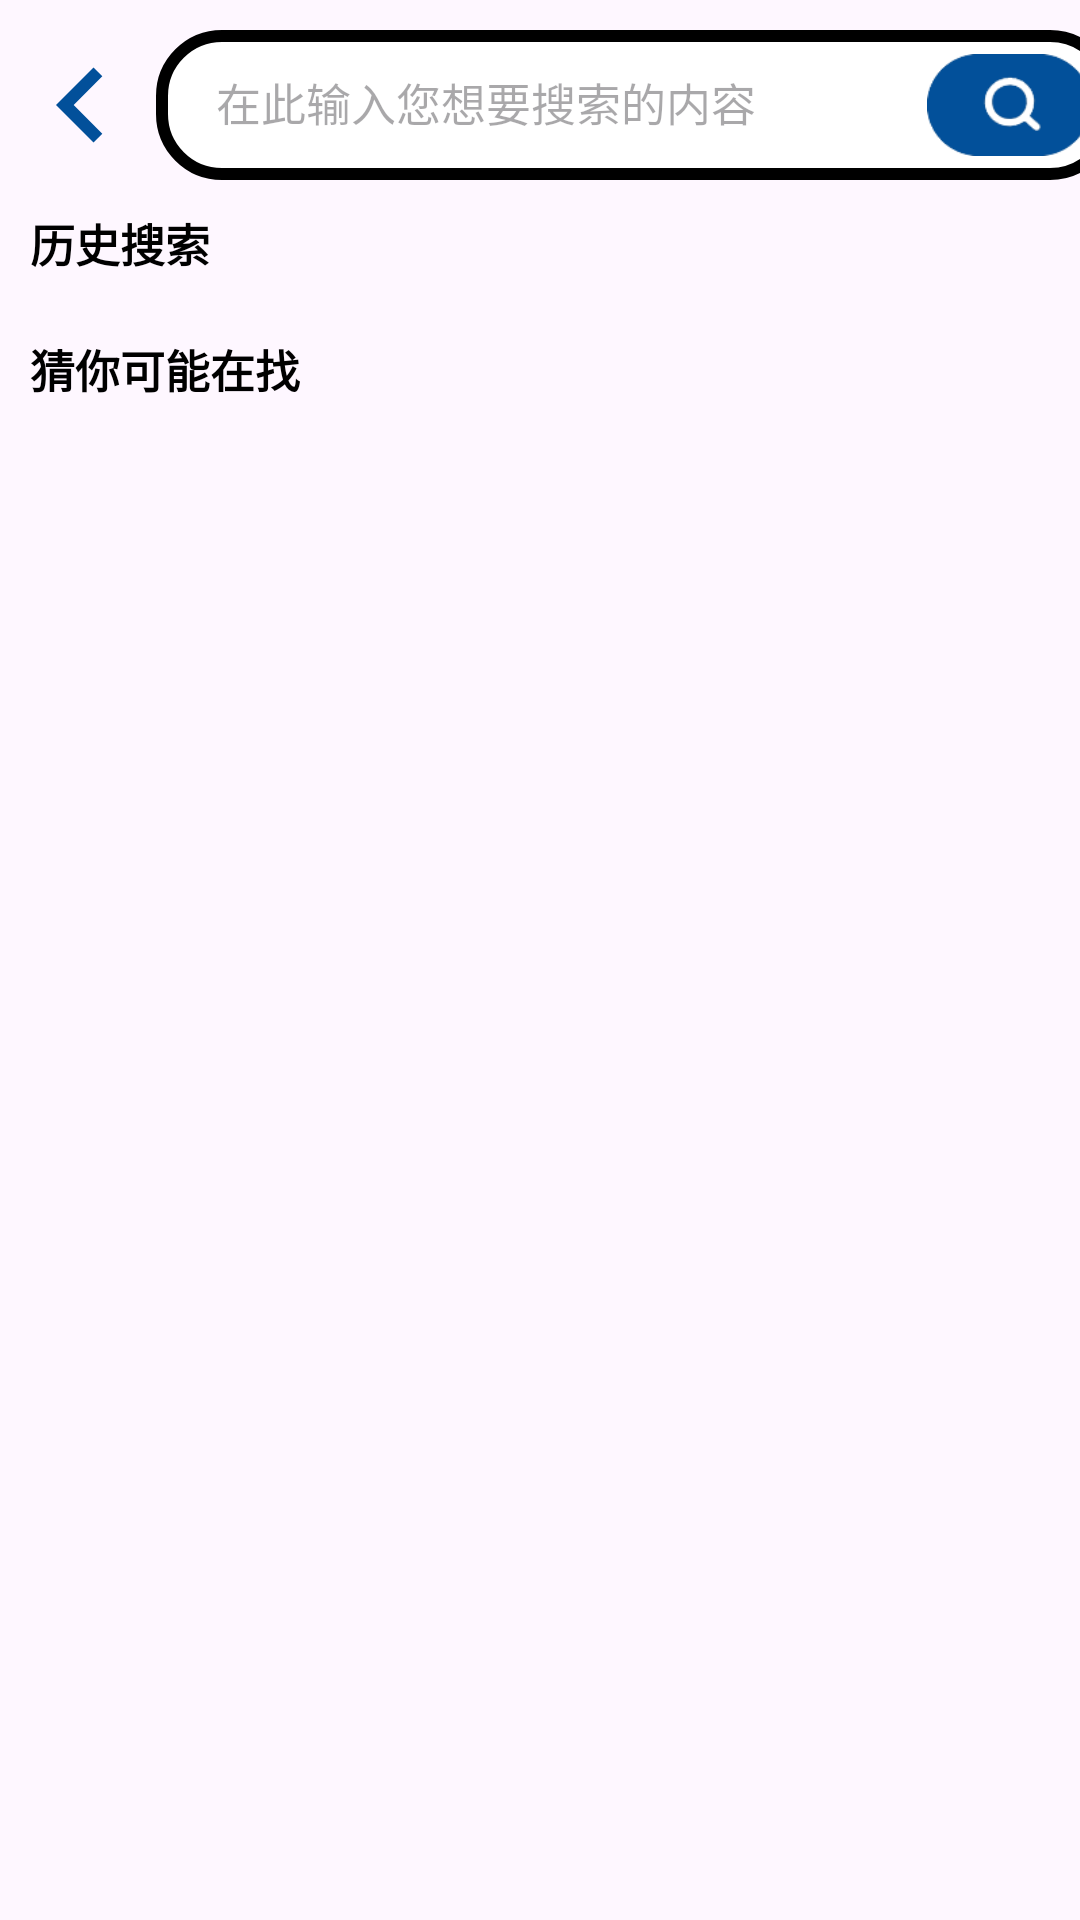

Icons on this 1080×1920 Android screen, each with the point to tap as (x=x, y=y):
chevron left: (x=79, y=105)
search: (x=1003, y=105)
